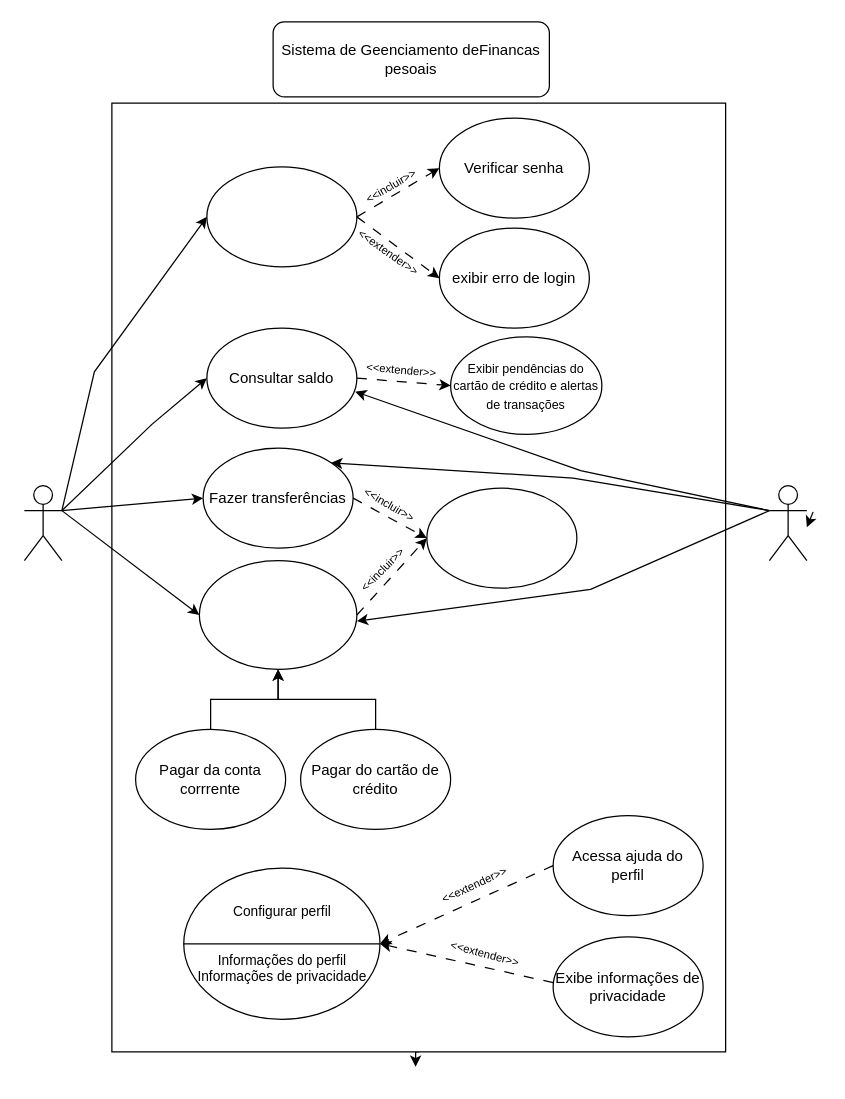
The diagram is 845 pixels wide and 1099 high, and some of its shapes have lost their labels. The shapes that lost their labels are listed below. From the top down, each one's box as (x1, y1, x2, y2) in pixels, then its label:
(206, 166, 357, 267): Fazer login
(23, 484, 62, 561): cliente
(426, 487, 577, 588): Verificar saldo disponível
(768, 484, 807, 561): Sistema
(198, 559, 357, 669): Fazer pagamento
